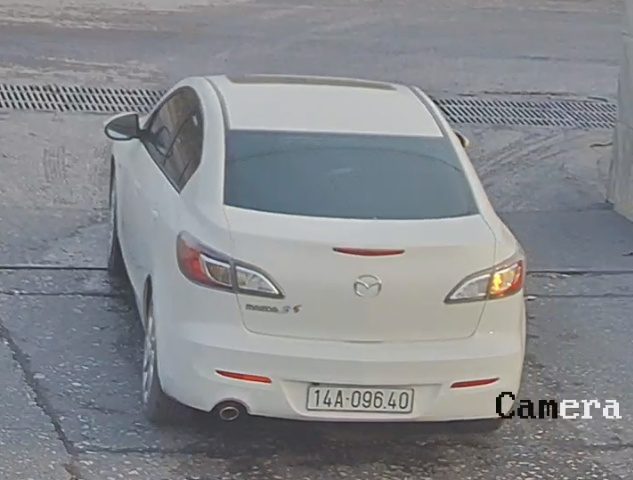vehicle plate: (305, 377, 422, 418)
